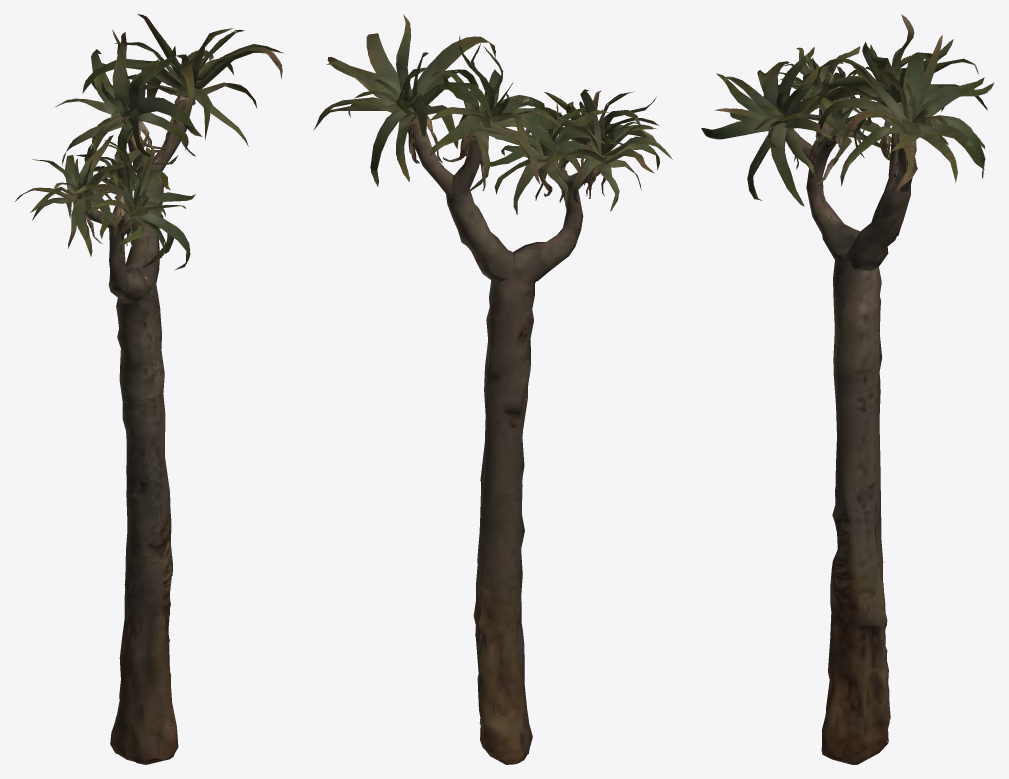
The model's file is quiver_tree.glb.
3 views of the same model, side by side, from view 1: azimuth 30°, elevation 25°; view 2: azimuth 150°, elevation 25°; view 3: azimuth 270°, elevation 25° (orthographic). The views are drawn at different scales.
Parts seen in each view (by area): view 1: quiver_tree; view 2: quiver_tree; view 3: quiver_tree.
Boxes of the visible parts, bbox=[...] form: quiver_tree: bbox=[15, 14, 283, 764]; quiver_tree: bbox=[313, 14, 672, 764]; quiver_tree: bbox=[701, 14, 994, 764].
Size of the model in its own units: 1.39 by 3.2 by 1.14.
Materials: 1 (1 with a texture image).
